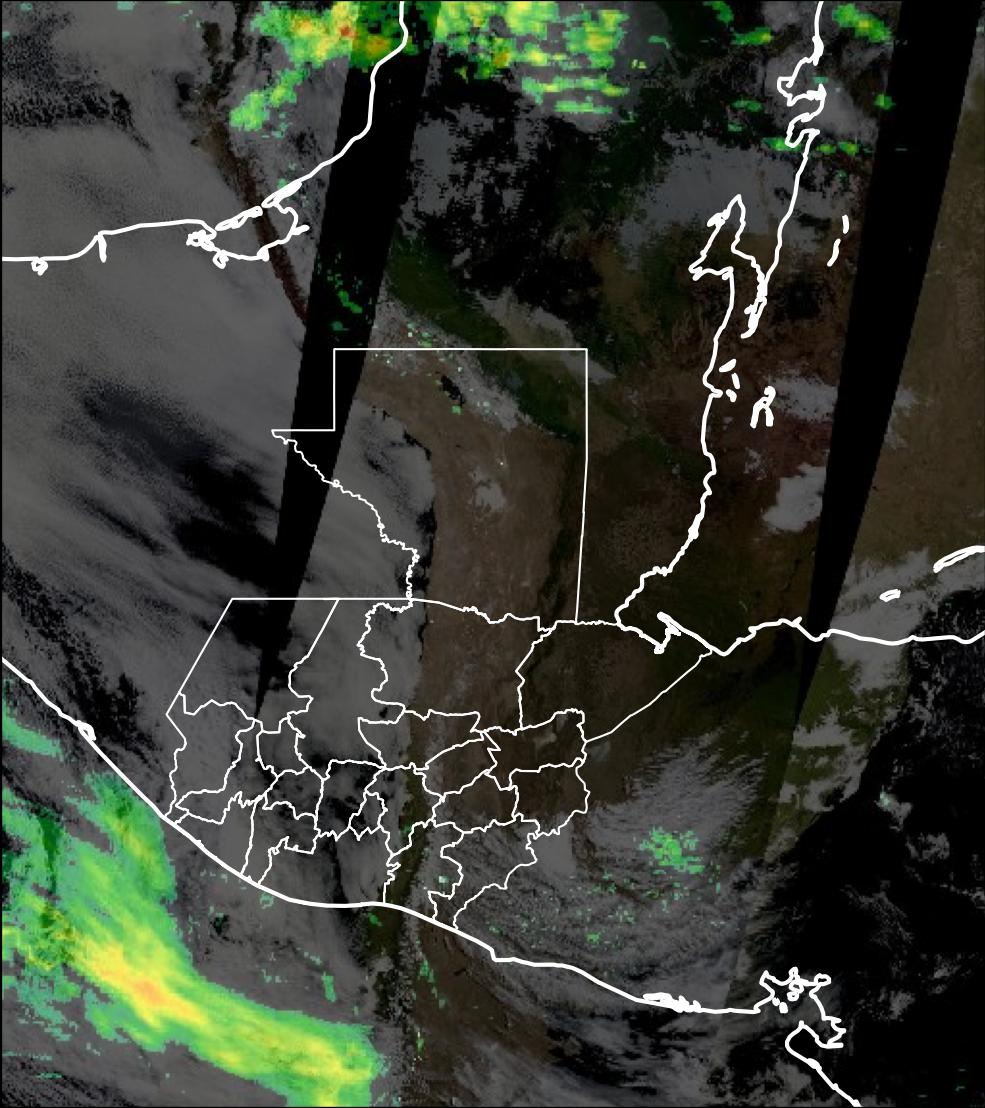precipitacion: (82, 916, 216, 1045)
